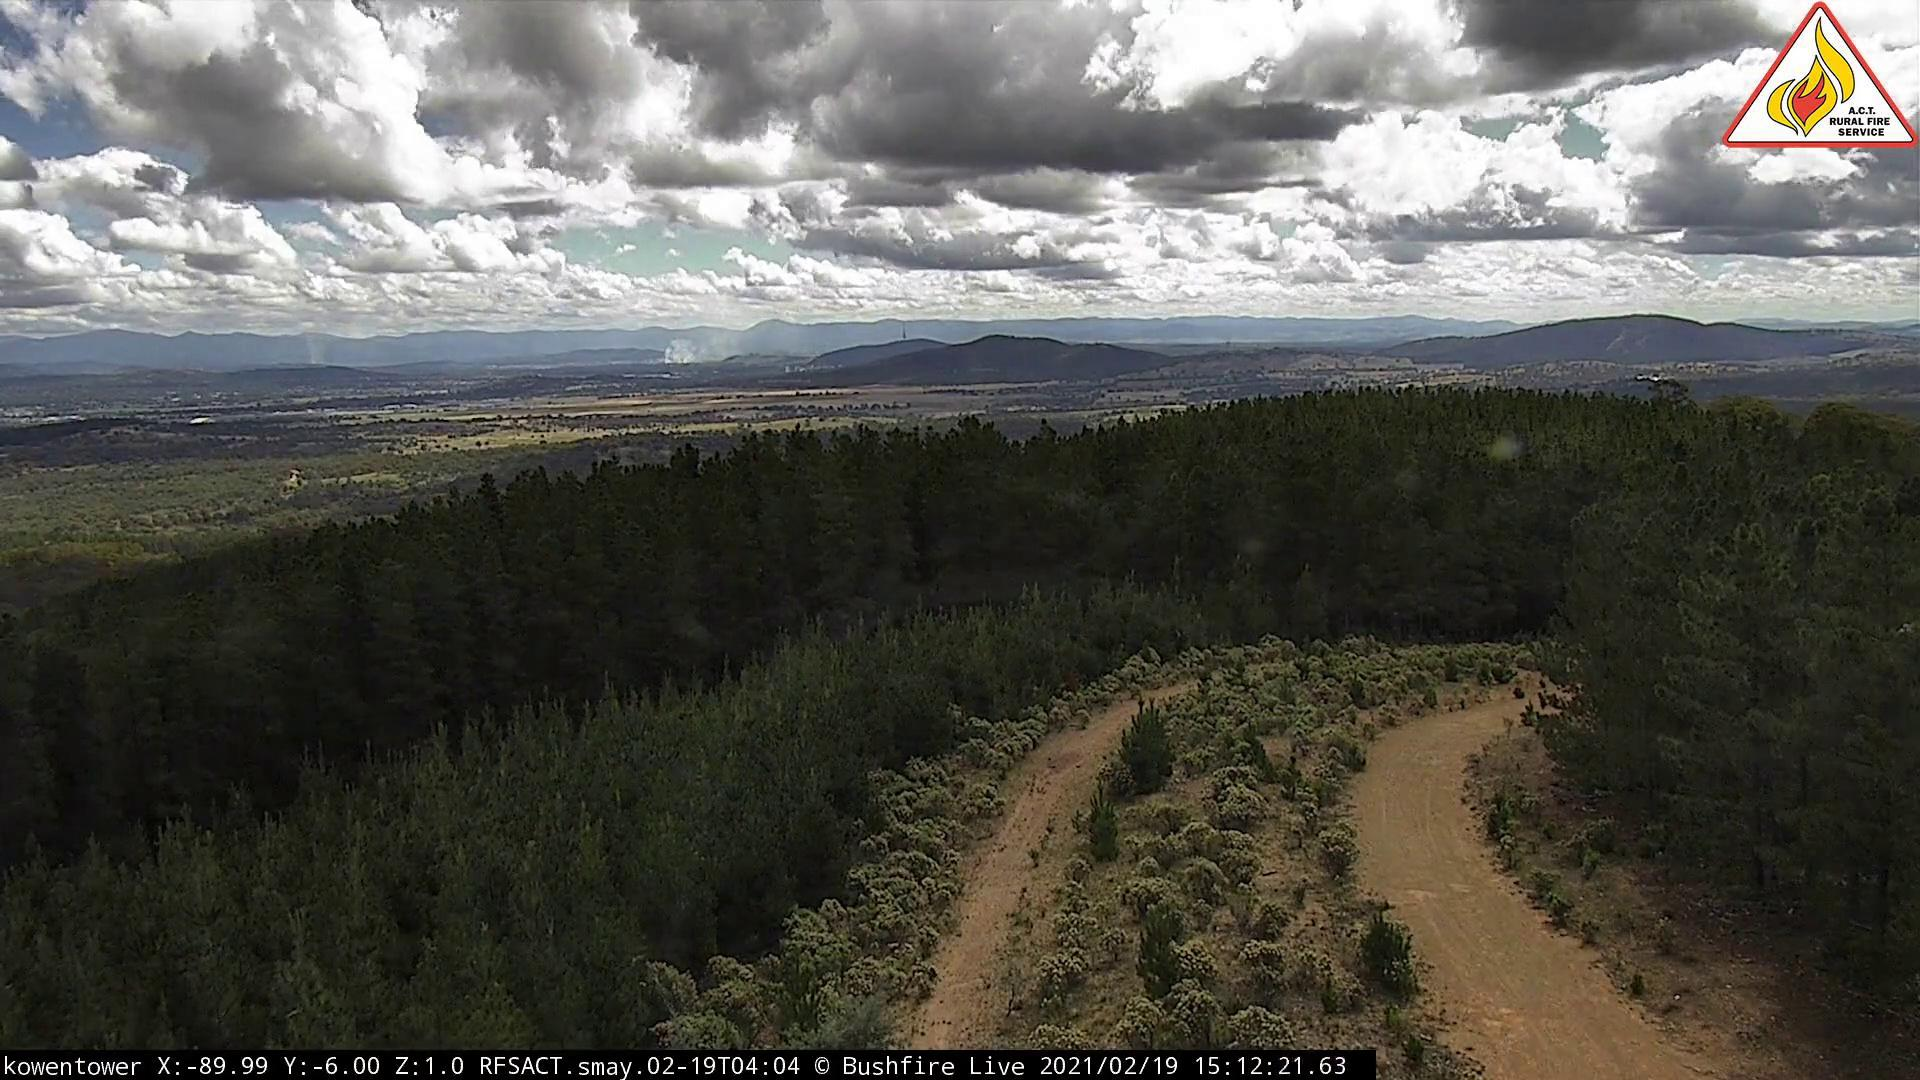Smoke: (662, 295, 771, 371), (277, 290, 368, 375)
